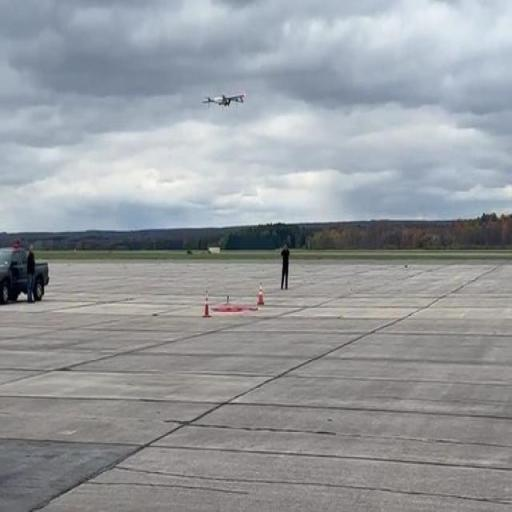uav: (184, 78, 262, 116)
